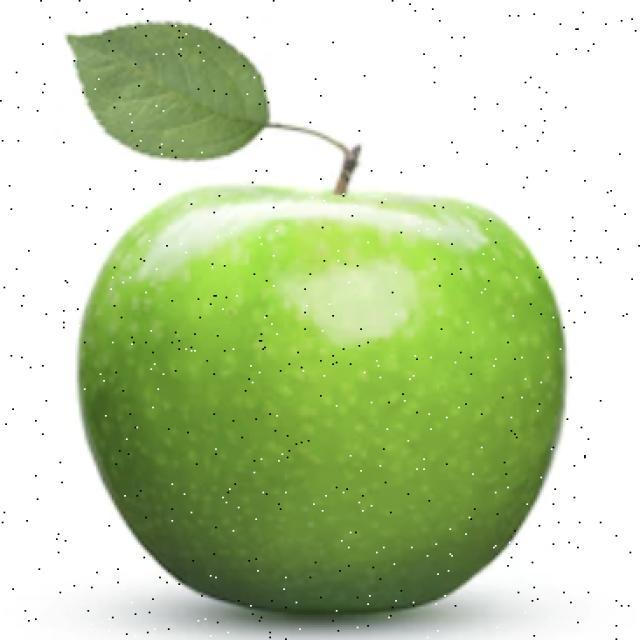Apple: (76, 179, 567, 615)
